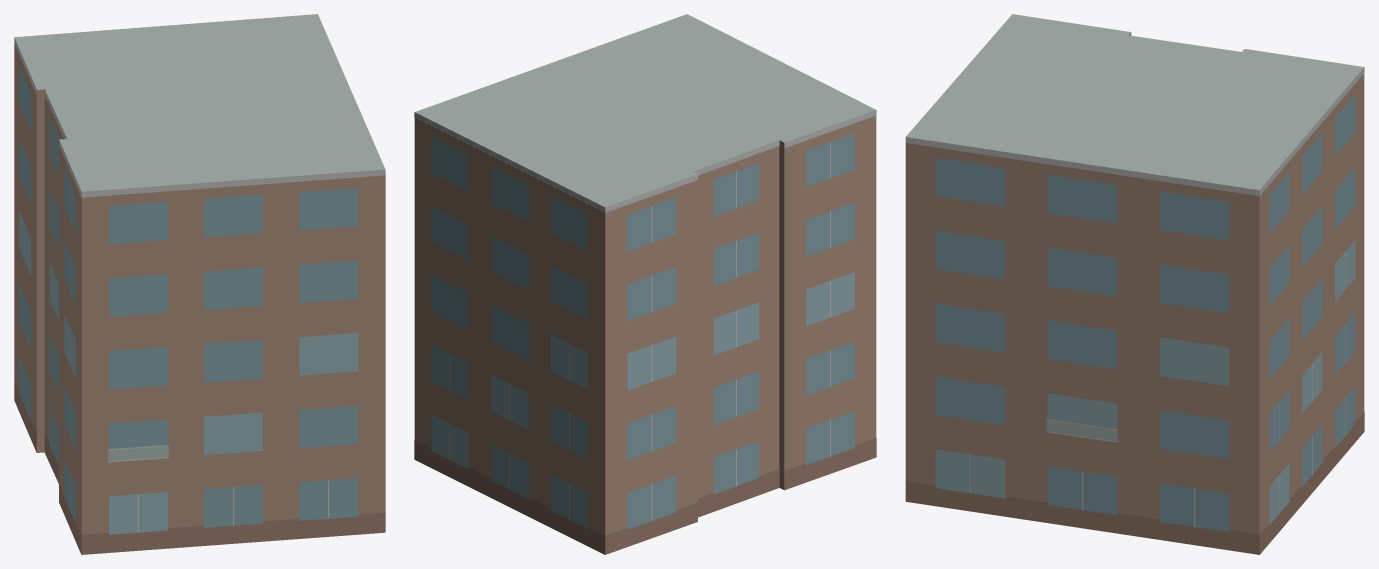
Rendered from survey-upis-32849550.glb.
3 renders of one model, left to right at view 1: azimuth 30°, elevation 25°; view 2: azimuth 150°, elevation 25°; view 3: azimuth 270°, elevation 25°, orthographic. The views are drawn at different scales.
Parts seen in each view (by area): view 1: survey-upis-32849550.tmp; view 2: survey-upis-32849550.tmp; view 3: survey-upis-32849550.tmp.
Boxes of the visible parts, x1,y1,x2,y2 form: survey-upis-32849550.tmp: (14, 14, 385, 554); survey-upis-32849550.tmp: (414, 14, 876, 554); survey-upis-32849550.tmp: (905, 14, 1364, 554).
Size of the model in its own units: 15.55 by 15 by 17.11.
